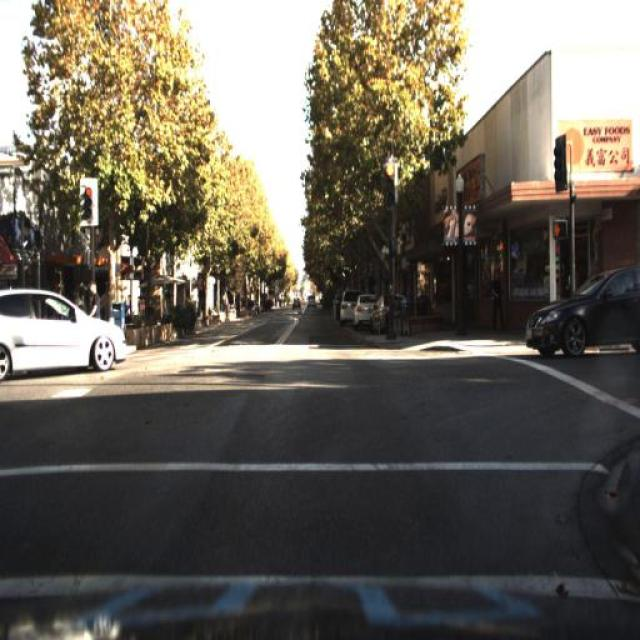car: (520, 254, 639, 360), (0, 283, 132, 377), (524, 256, 638, 362), (370, 292, 410, 338), (353, 294, 378, 334), (352, 298, 376, 328), (339, 290, 350, 326), (288, 296, 302, 318), (304, 292, 318, 312)
trafficLight: (78, 262, 108, 324), (487, 266, 502, 330), (492, 265, 504, 327)
trafficLight-RedLeft: (82, 181, 98, 228), (82, 182, 96, 229), (384, 158, 395, 206)
